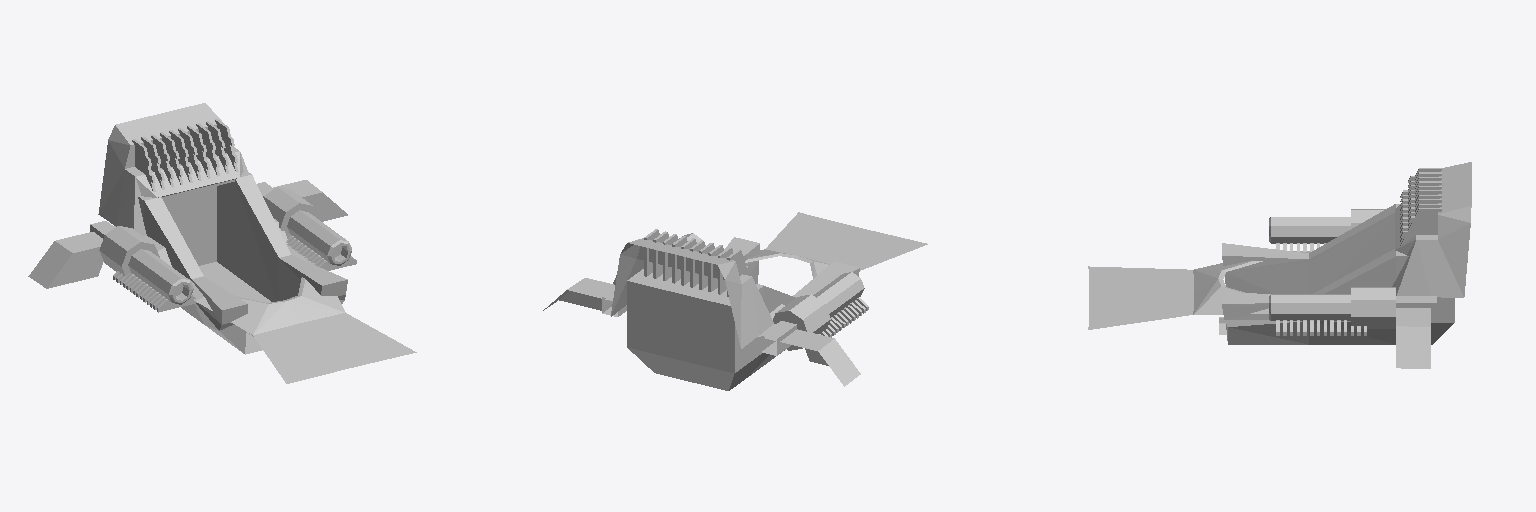
The model's file is Cockpit.obj.
3 views of the same model, side by side, from view 1: azimuth 30°, elevation 25°; view 2: azimuth 150°, elevation 25°; view 3: azimuth 270°, elevation 25° (orthographic).
Parts seen in each view (by area): view 1: Cockpit_Mesh FighterChassis; view 2: Cockpit_Mesh FighterChassis; view 3: Cockpit_Mesh FighterChassis.
Boxes of the visible parts, x1=… form: Cockpit_Mesh FighterChassis: x1=28, y1=103, x2=416, y2=383; Cockpit_Mesh FighterChassis: x1=543, y1=212, x2=927, y2=390; Cockpit_Mesh FighterChassis: x1=1088, y1=162, x2=1471, y2=368.
Size of the model in its own units: 260 by 118 by 284.